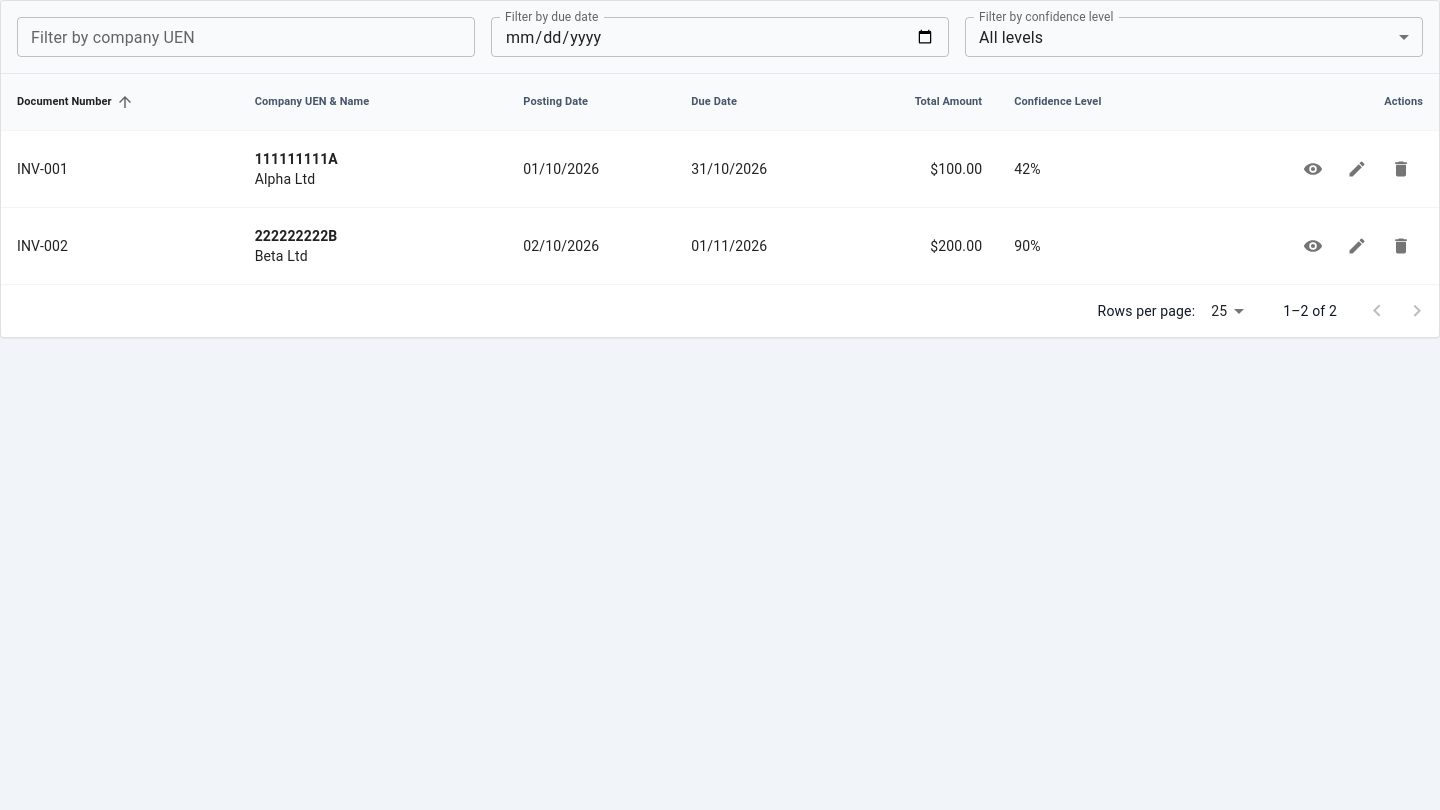
Test: DocumentDataGrid › only deletes after confirmation and closes the dialog on success
The image size is (1440, 810).
What coordinates should you click on to do the following:
click the button named "delete inv-001"
I would click on:
 (1401, 169)
Its box is [1379,147,1423,191].
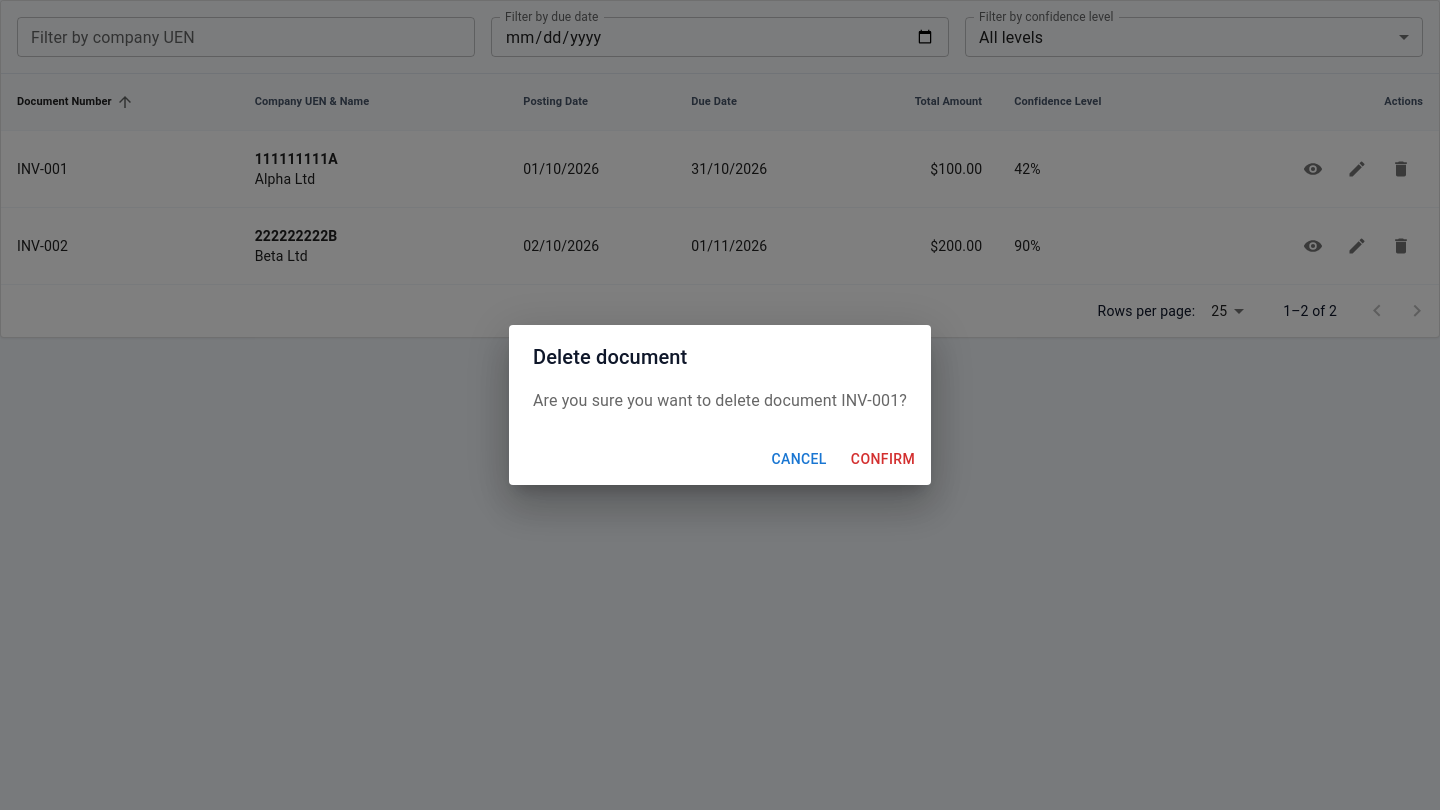
What coordinates should you click on to do the following:
click the button "Cancel"
I would click on:
 (799, 459)
Its box is [763,441,835,477].
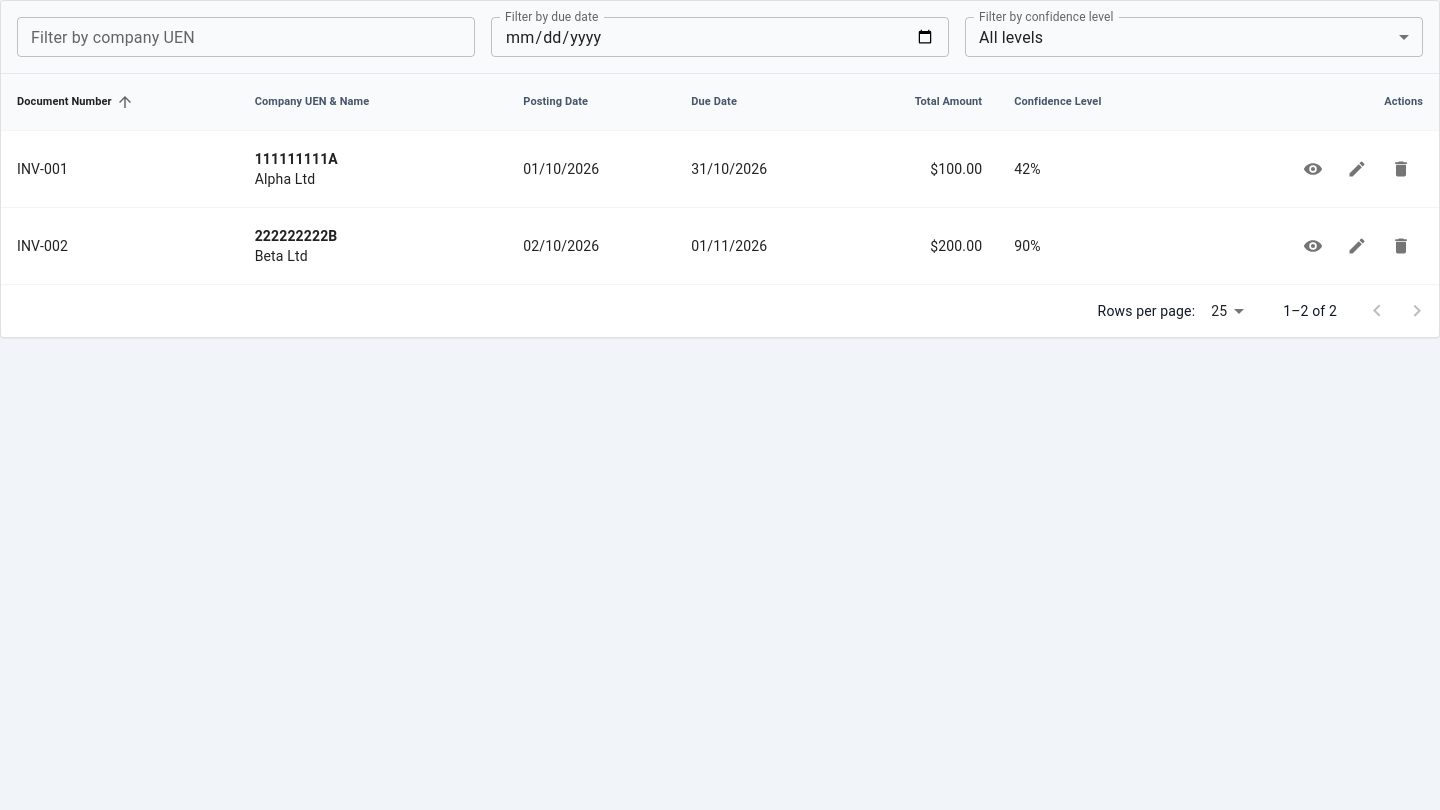
Check: the text "Are you sure" is gone
What coordinates should you click on to do the following:
click the button named "delete inv-001"
I would click on:
 (1401, 169)
Its box is [1379,147,1423,191].
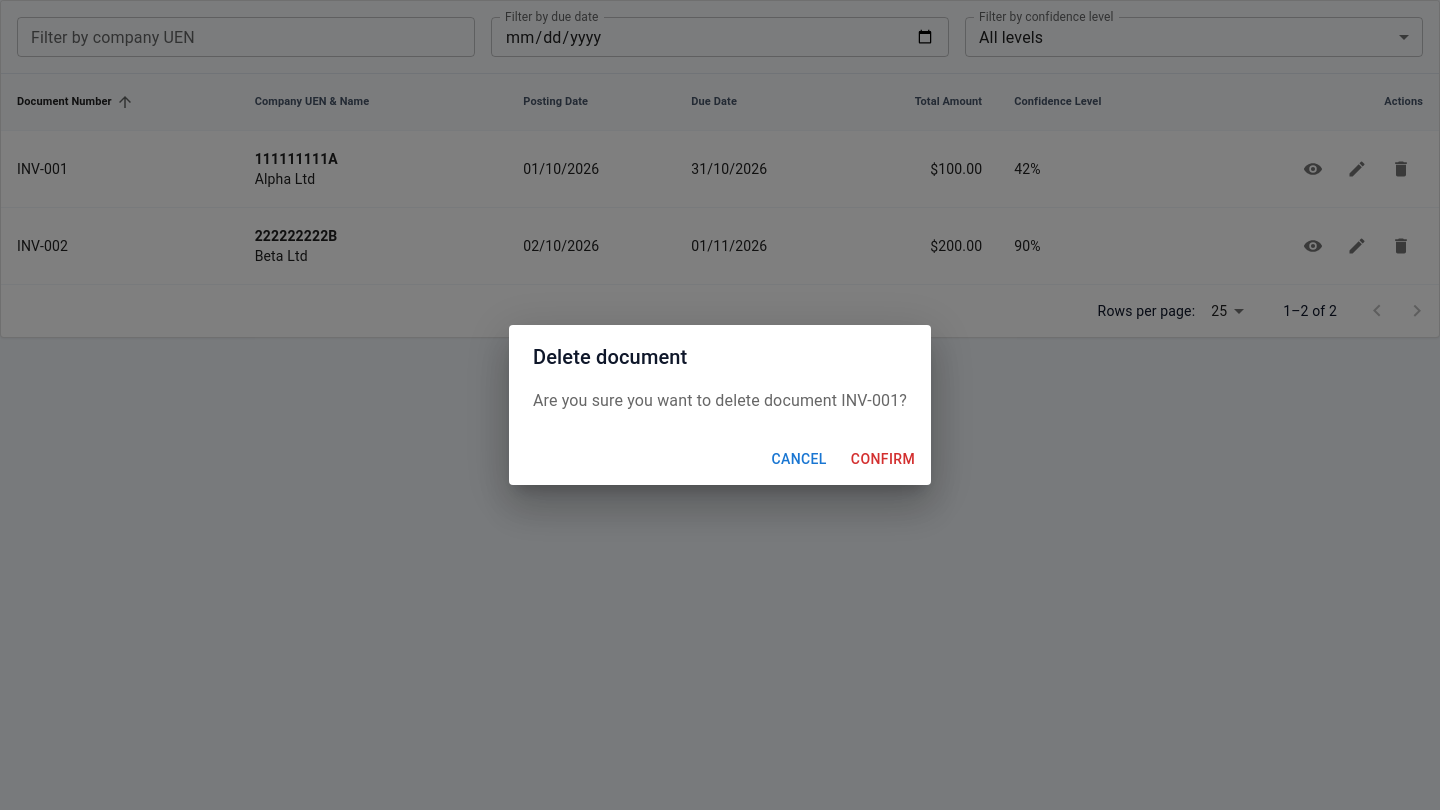
What coordinates should you click on to do the following:
click the button "Confirm"
I would click on:
 (883, 459)
Its box is [843,441,923,477].
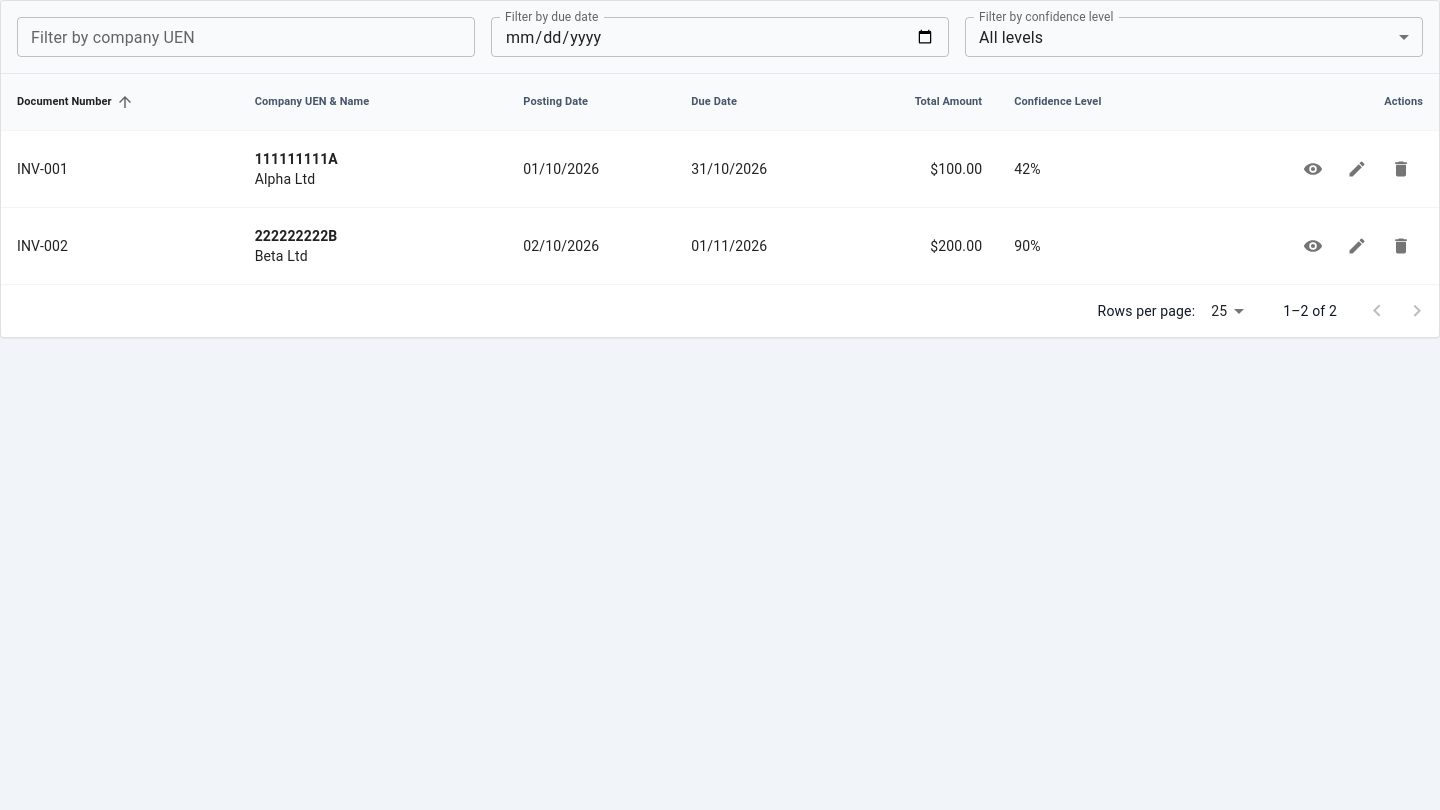
Check: the text "Are you sure" is gone
